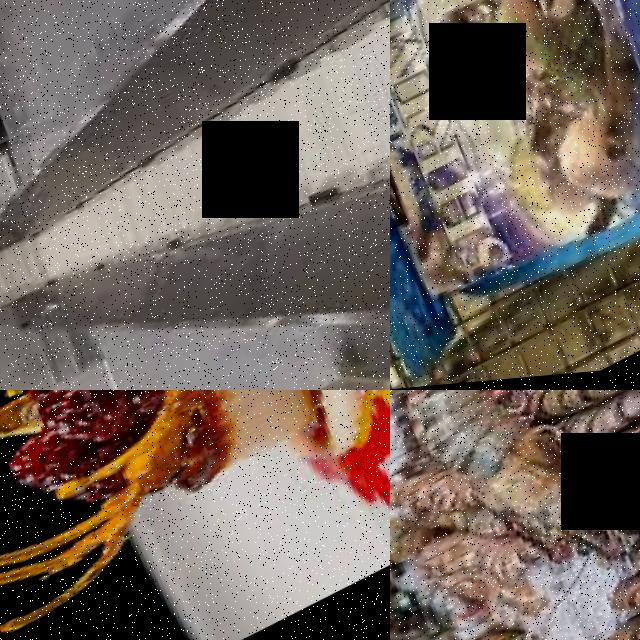shrimp: (390, 390, 585, 601), (534, 390, 640, 436), (574, 390, 640, 453), (598, 401, 640, 491), (608, 436, 640, 524)
